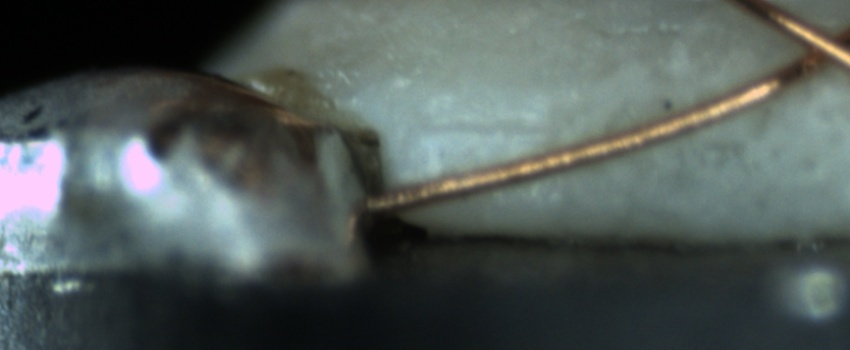CL: (768, 7, 848, 85)
DL: (415, 94, 548, 158)
